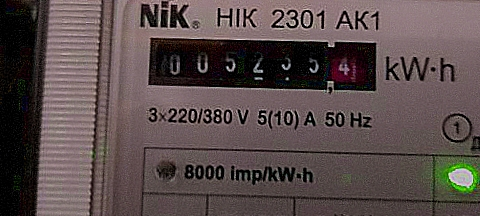0: (193, 49, 210, 74), (165, 50, 181, 76)
2: (248, 48, 266, 75)
3: (276, 46, 294, 72)
4: (333, 49, 353, 79)
5: (304, 46, 321, 75), (222, 48, 237, 73)
screen: (134, 21, 387, 104)
